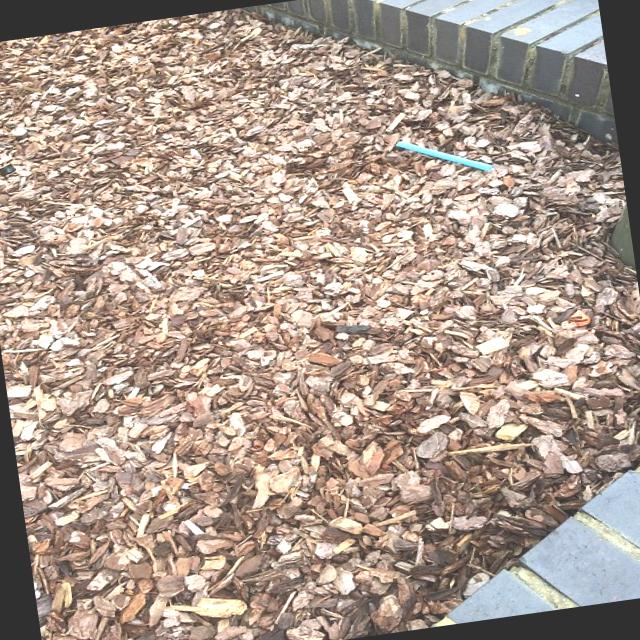Trash: (396, 128, 496, 185)
